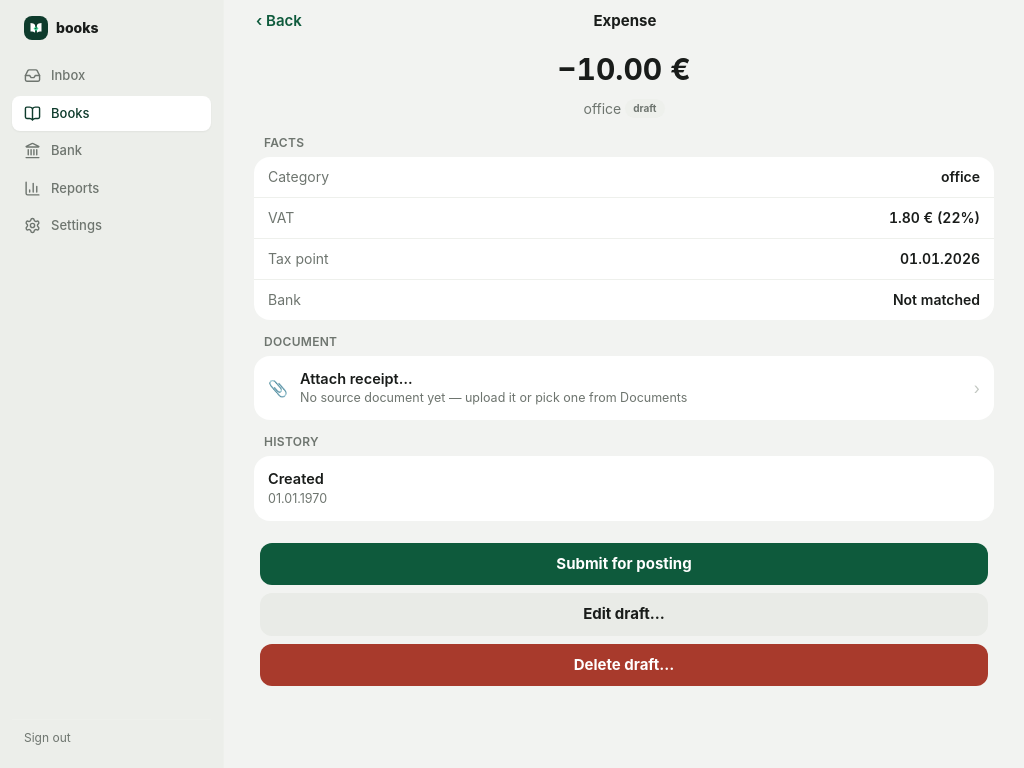
Scenario: unsaved-changes guard on the production routes (#250) › a click in the window after Discard (path already the new id, old screen still shown) opens no sheet on the new id
Click the button "Edit draft…". click: (624, 614)
box: [260,593,988,636]
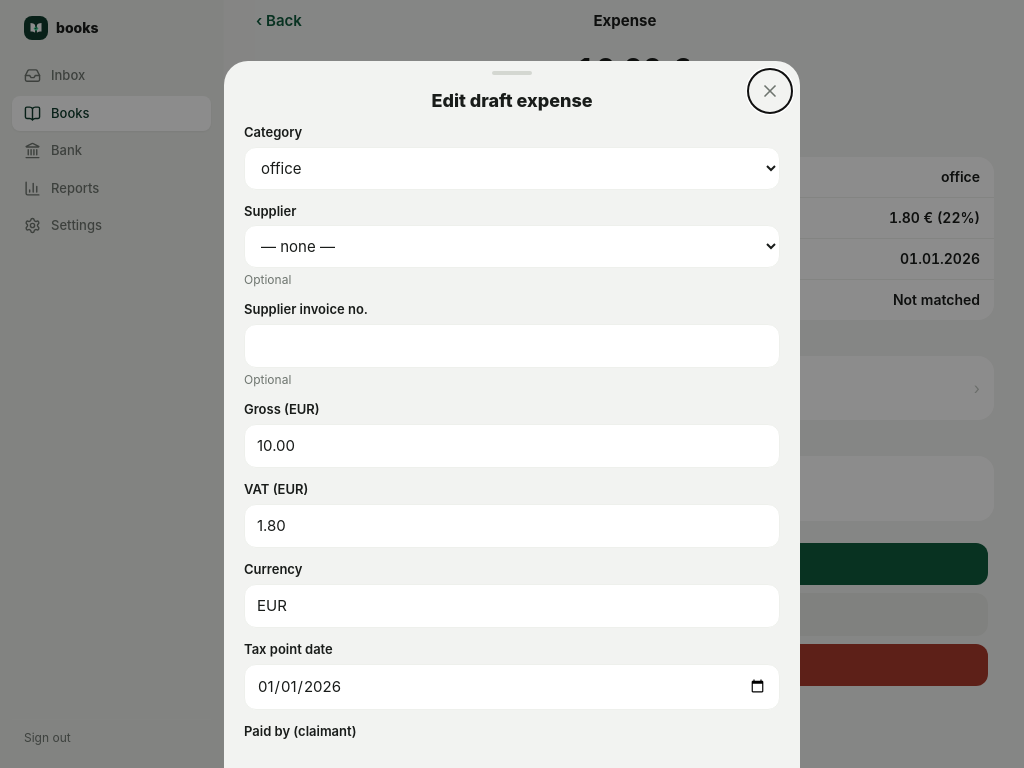
Replace the text in the field labelled "Gross (EUR)" with "99.00". click: (512, 446)
box: [244,424,780,468]
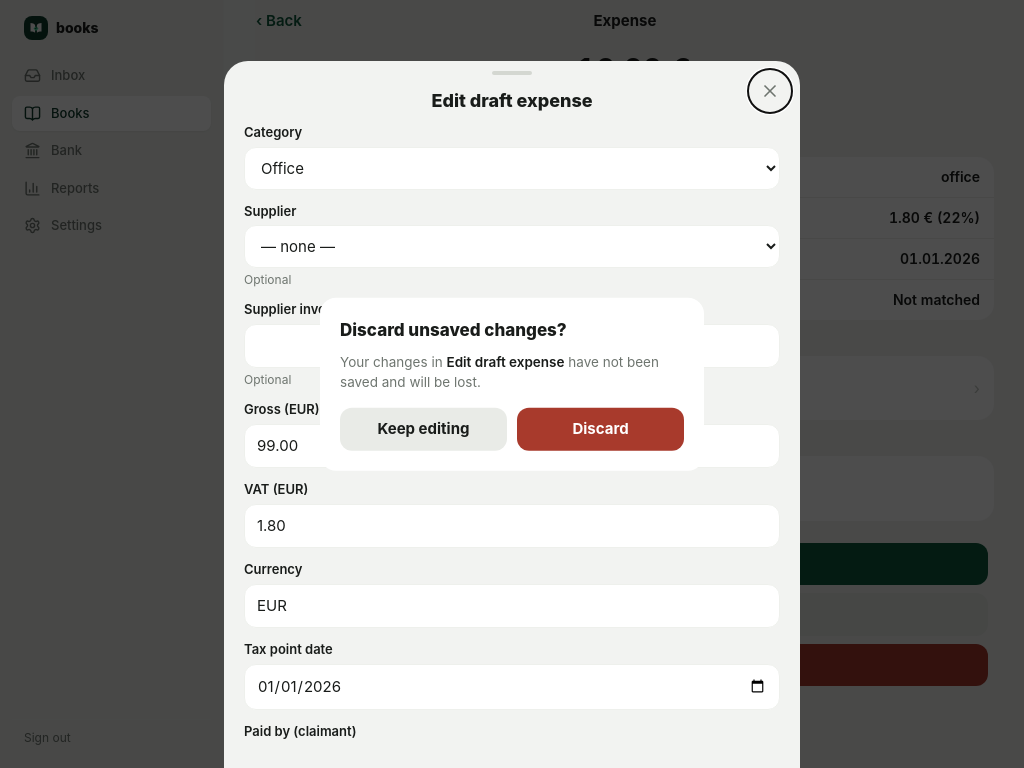
Click the button "Discard". click: (600, 429)
box: [517,408,684,450]
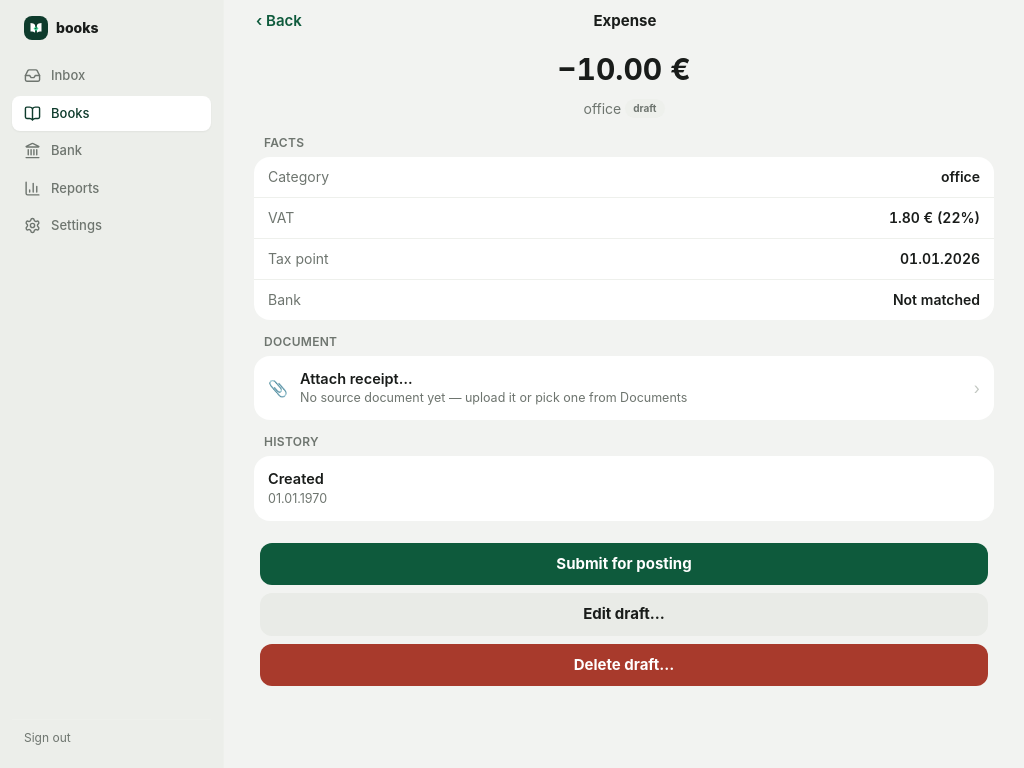
Click the button "Edit draft…". click: (624, 614)
box: [260,593,988,636]
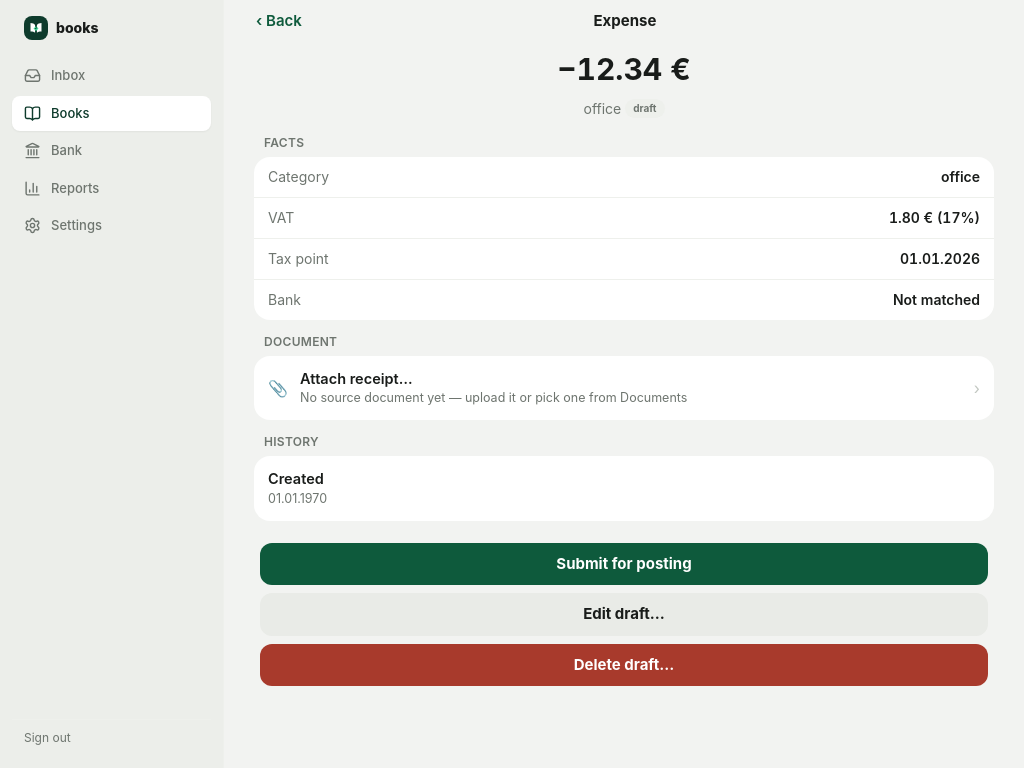
Expected: the heading "Edit draft expense" is not shown
Expected: the text "−12.34 €" is shown, [557,50,691,86]
